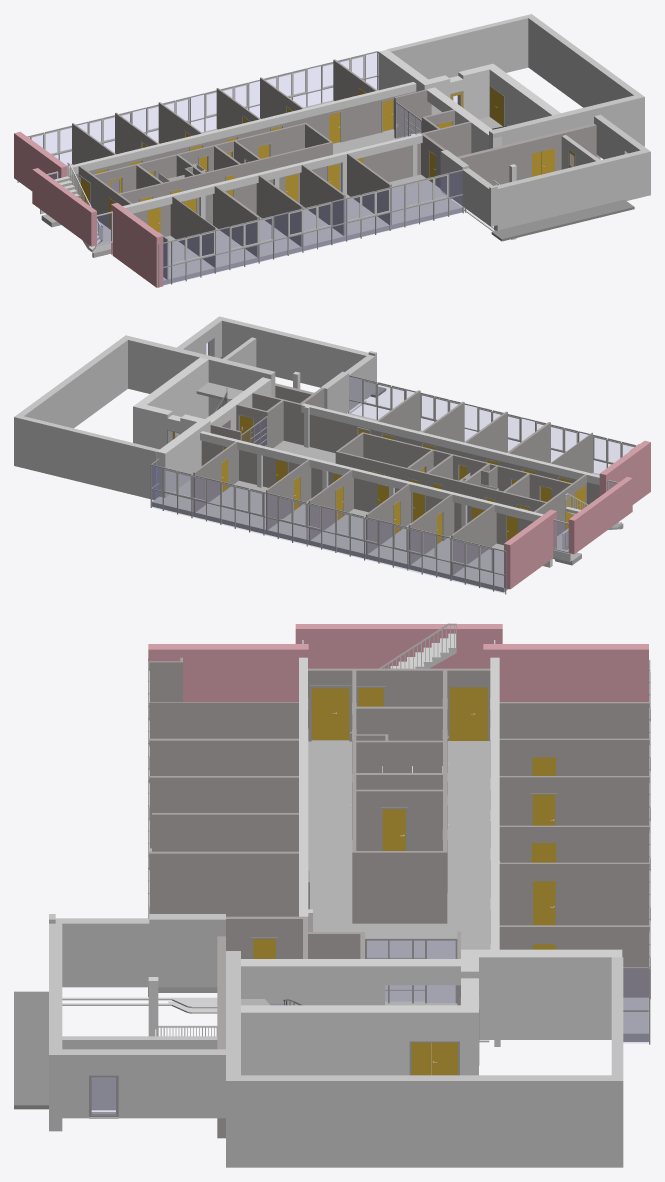
Rendered from Riihimaki2F.glb.
3 renders of one model, top to bottom at view 1: azimuth 30°, elevation 25°; view 2: azimuth 150°, elevation 25°; view 3: azimuth 270°, elevation 25°, orthographic. The views are drawn at different scales.
Parts seen in each view (by area): view 1: AdditionalWall2F, IfcSlab/Floor:VP 300mm:483101, 2F1, IfcWallStandardCase/Basic Wall:Exterior - Brick on Mtl. Stu. (×2), 2F5, IfcWallStandardCase/Basic Wall:VS - 140mm:780275, IfcWallStandardCase/Basic Wall:VS - 110mm:792553, IfcWallStandardCase/Basic Wall:VS - 140mm:779987, IfcWall/Basic Wall:VS - 100mm:747648, IfcWallStandardCase/Basic Wall:Exterior - Brick on Mtl. Stud, 2F3, IfcWallStandardCase/Basic Wall:VS Kantava- 600mm:774677 (+36 smaller); view 2: AdditionalWall2F, IfcSlab/Floor:VP 300mm:483101, 2F1, IfcWallStandardCase/Basic Wall:Exterior - Brick on Mtl. Stu. (×2), IfcWallStandardCase/Basic Wall:VS - 110mm:792553, IfcWallStandardCase/Basic Wall:VS - 140mm:779987, IfcWallStandardCase/Basic Wall:VS - 140mm:780275, IfcWallStandardCase/Basic Wall:Exterior - Brick on Mtl. Stud, IfcWall/Basic Wall:US kantava - 500mm:842819, IfcWall/Basic Wall:VS - 100mm:747648, IfcWallStandardCase/Basic Wall:VS Kantava- 600mm:806985, IfcWallStandardCase/Basic Wall:VS Kantava- 600mm:801185 (+32 smaller); view 3: AdditionalWall2F, IfcSlab/Floor:VP 300mm:483101, IfcWallStandardCase/Basic Wall:Exterior - Brick on Mtl. Stu. (×2), IfcWallStandardCase/Basic Wall:VS Kantava- 600mm:806985, IfcWallStandardCase/Basic Wall:VS Kantava- 600mm:801185, 2F3, 2F2, IfcWallStandardCase/Basic Wall:VS - 140mm:747087, IfcWallStandardCase/Basic Wall:VS Kantava- 600mm:769463, IfcWallStandardCase/Basic Wall:VS - 110mm:743991, IfcWallStandardCase/Basic Wall:Exterior - Brick on Mtl. Stud, IfcWallStandardCase/Basic Wall:VS - 110mm:744792 (+36 smaller).
Boxes of the visible parts, box(x1,y1,x2,y2) form: AdditionalWall2F: box(387, 14, 644, 146); IfcSlab/Floor:VP 300mm:483101: box(41, 89, 462, 284); 2F1: box(494, 149, 650, 230); IfcWallStandardCase/Basic Wall:Exterior - Brick on Mtl. Stu. (×2): box(14, 131, 163, 287); 2F5: box(449, 123, 596, 198); IfcWallStandardCase/Basic Wall:VS - 140mm:780275: box(93, 122, 306, 192); IfcWallStandardCase/Basic Wall:VS - 110mm:792553: box(68, 91, 416, 193); IfcWallStandardCase/Basic Wall:VS - 140mm:779987: box(119, 141, 332, 203); IfcWall/Basic Wall:VS - 100mm:747648: box(133, 145, 412, 236); IfcWallStandardCase/Basic Wall:Exterior - Brick on Mtl. Stud: box(32, 168, 96, 246); 2F3: box(440, 150, 497, 226); IfcWallStandardCase/Basic Wall:VS Kantava- 600mm:774677: box(419, 63, 497, 119); AdditionalWall2F: box(14, 335, 168, 499); IfcSlab/Floor:VP 300mm:483101: box(152, 413, 623, 592); 2F1: box(216, 316, 370, 398); IfcWallStandardCase/Basic Wall:Exterior - Brick on Mtl. Stu. (×2): box(504, 440, 650, 589); IfcWallStandardCase/Basic Wall:VS - 110mm:792553: box(201, 441, 533, 545); IfcWallStandardCase/Basic Wall:VS - 140mm:779987: box(362, 432, 571, 499); IfcWallStandardCase/Basic Wall:VS - 140mm:780275: box(335, 451, 546, 511); IfcWallStandardCase/Basic Wall:Exterior - Brick on Mtl. Stud: box(568, 477, 632, 554); IfcWall/Basic Wall:US kantava - 500mm:842819: box(165, 346, 275, 416); IfcWall/Basic Wall:VS - 100mm:747648: box(309, 414, 599, 504); IfcWallStandardCase/Basic Wall:VS Kantava- 600mm:806985: box(138, 357, 208, 436); IfcWallStandardCase/Basic Wall:VS Kantava- 600mm:801185: box(157, 422, 205, 497); AdditionalWall2F: box(226, 957, 623, 1167); IfcSlab/Floor:VP 300mm:483101: box(150, 740, 648, 1041); IfcWallStandardCase/Basic Wall:Exterior - Brick on Mtl. Stu. (×2): box(148, 644, 648, 702); IfcWallStandardCase/Basic Wall:VS Kantava- 600mm:806985: box(241, 1005, 460, 1075); IfcWallStandardCase/Basic Wall:VS Kantava- 600mm:801185: box(479, 949, 622, 1039); 2F3: box(49, 914, 225, 987); 2F2: box(62, 1049, 225, 1118); IfcWallStandardCase/Basic Wall:VS - 140mm:747087: box(149, 851, 298, 916); IfcWallStandardCase/Basic Wall:VS Kantava- 600mm:769463: box(241, 959, 460, 1005); IfcWallStandardCase/Basic Wall:VS - 110mm:743991: box(499, 862, 649, 925); IfcWallStandardCase/Basic Wall:Exterior - Brick on Mtl. Stud: box(295, 624, 502, 668); IfcWallStandardCase/Basic Wall:VS - 110mm:744792: box(499, 776, 649, 825).
Size of the model in its own units: 36.61 by 6.58 by 21.58.
